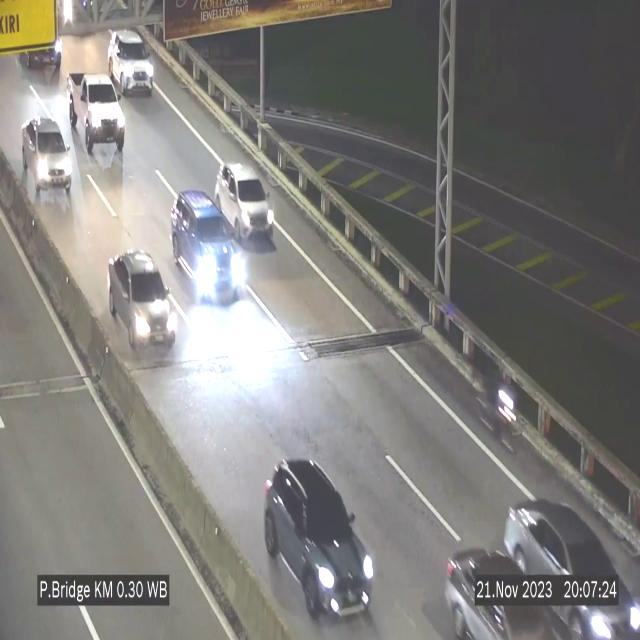Car: (495, 483, 638, 640), (264, 458, 374, 630), (439, 534, 555, 640), (172, 193, 249, 313), (109, 251, 177, 358), (62, 70, 125, 158), (20, 113, 76, 196), (216, 162, 274, 236), (108, 28, 154, 96), (18, 15, 66, 78)
Motorcycle: (484, 376, 522, 457)
